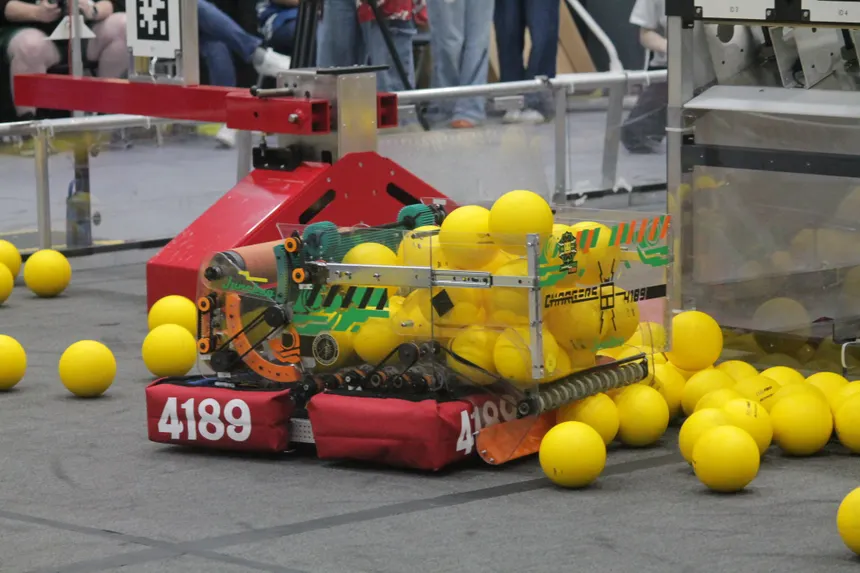frc-robot: (147, 191, 668, 469)
